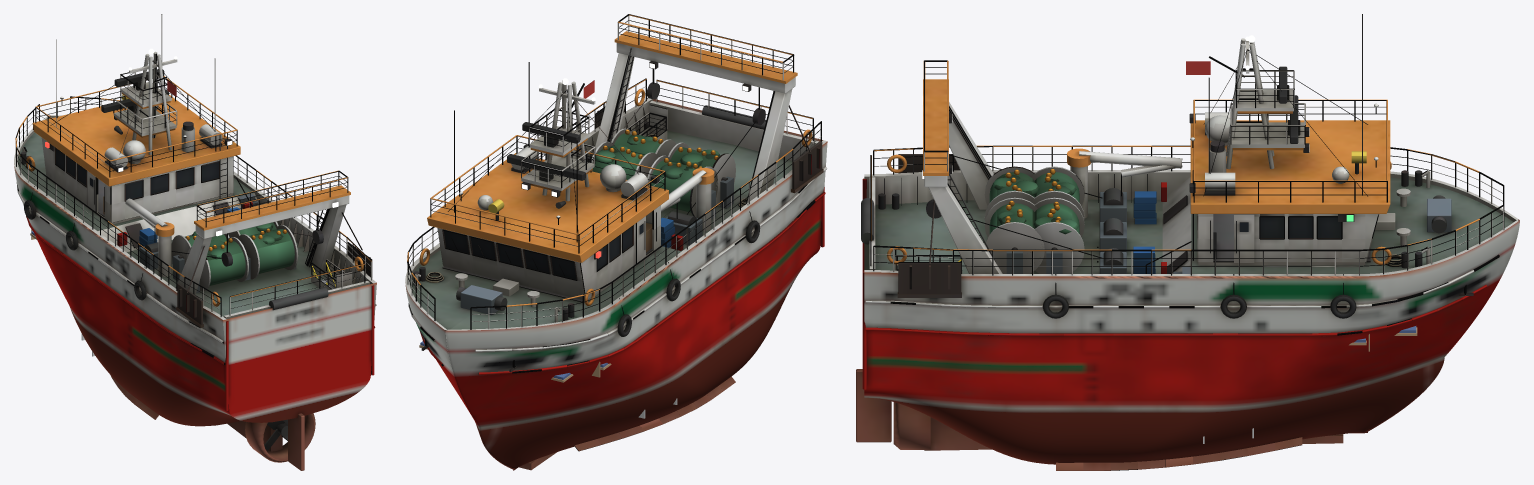
File: trawler.glb
3 renders of one model, left to right at view 1: azimuth 30°, elevation 25°; view 2: azimuth 150°, elevation 25°; view 3: azimuth 270°, elevation 25°, orthographic. The views are drawn at different scales.
Parts seen in each view (by area): view 1: fittings, hull; view 2: fittings, hull; view 3: fittings, hull.
Part boxes in pixels (bbox=[...]): fittings: bbox=[14, 14, 376, 470]; hull: bbox=[14, 115, 376, 426]; fittings: bbox=[405, 14, 827, 470]; hull: bbox=[405, 99, 827, 470]; fittings: bbox=[856, 14, 1518, 470]; hull: bbox=[864, 219, 1519, 464].
Size of what is drawn, in the model's own units: 9.73 by 16.58 by 24.25.
59 materials, 30 textured.
